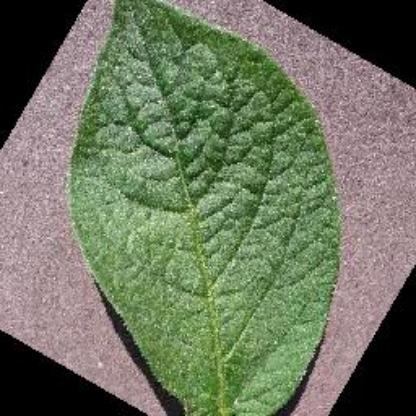Healthy-plant: (63, 2, 350, 416)
